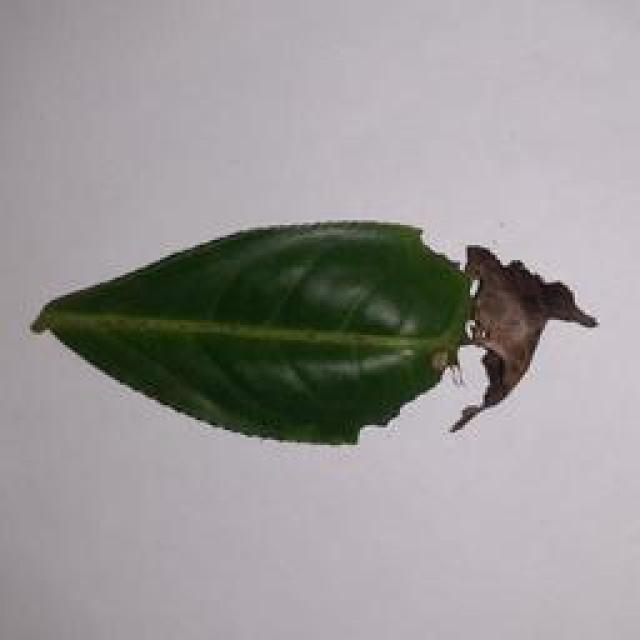Brown Blight: (10, 216, 610, 429)
